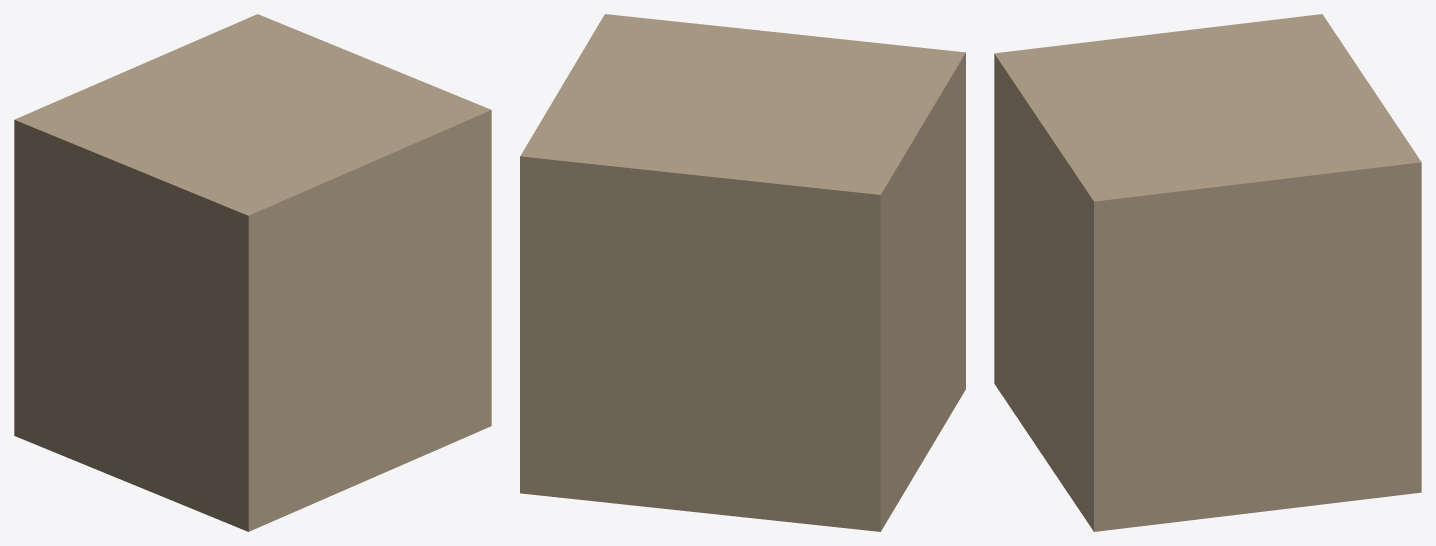
The model's file is bld_99867610.dae.
The picture shows the model from 3 angles, left to right: view 1: azimuth 30°, elevation 25°; view 2: azimuth 150°, elevation 25°; view 3: azimuth 270°, elevation 25°; orthographic projection. The views are drawn at different scales.
Visible parts, largest first — view 1: bld_99867610; view 2: bld_99867610; view 3: bld_99867610.
Part boxes in pixels (x1,y1,x2,y2): bld_99867610: (14, 14, 491, 531); bld_99867610: (520, 14, 965, 531); bld_99867610: (994, 14, 1421, 531).
Bounding box in the file's own units: 9.75 × 9.38 × 8.
